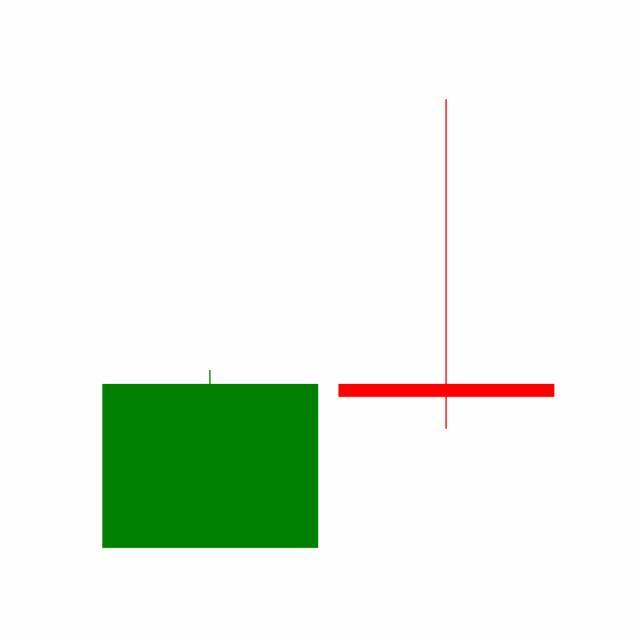Spinning Top: (328, 96, 566, 433)
